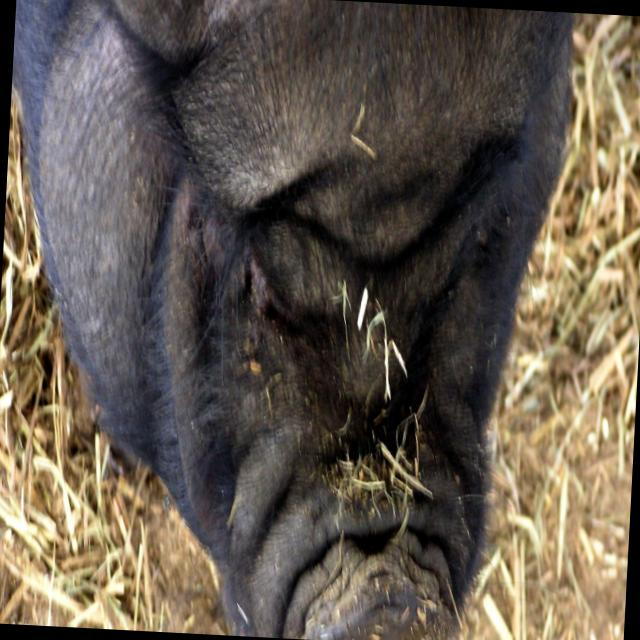pig: (12, 0, 577, 640)
